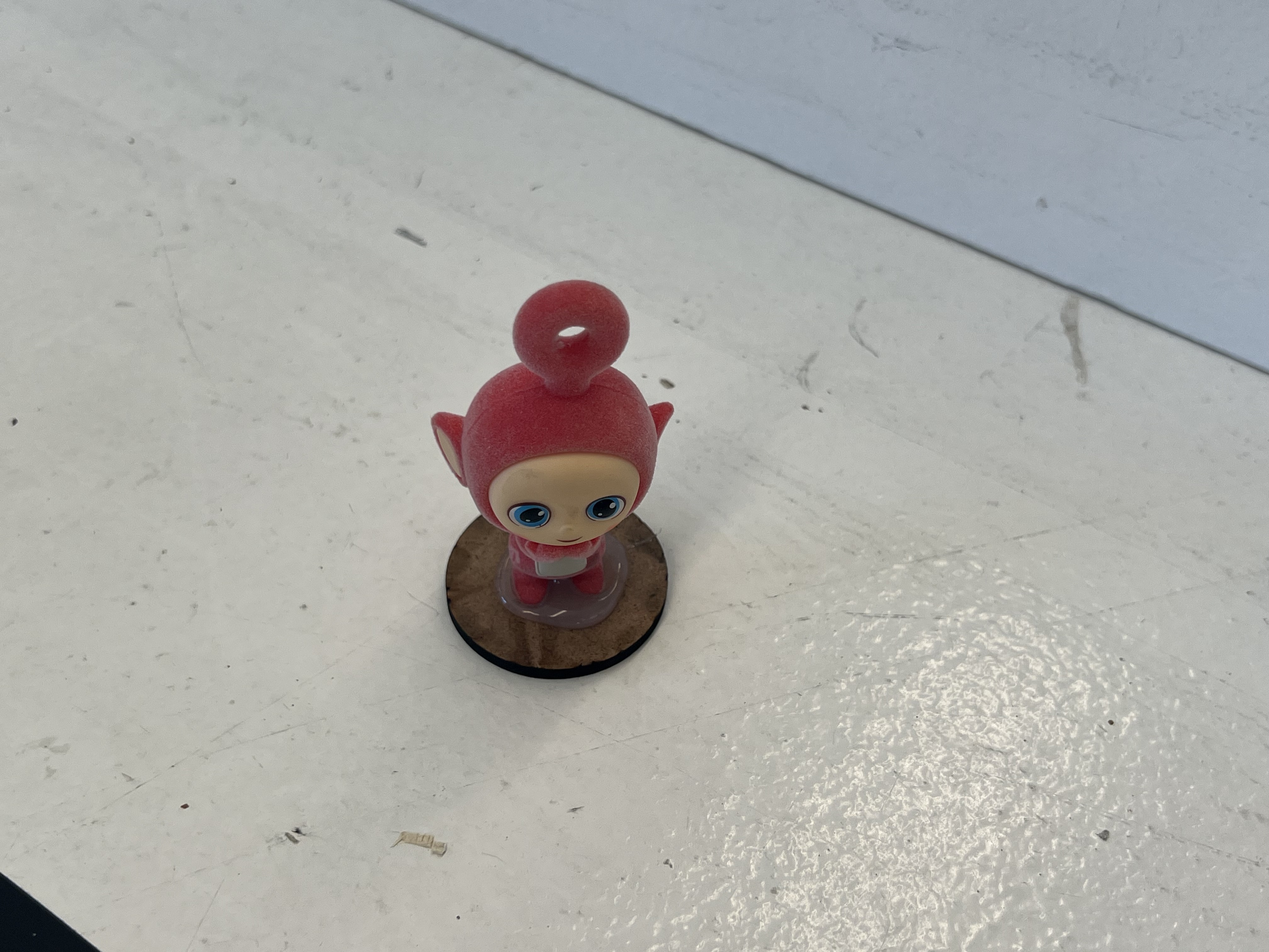teletubby: (431, 280, 673, 605)
